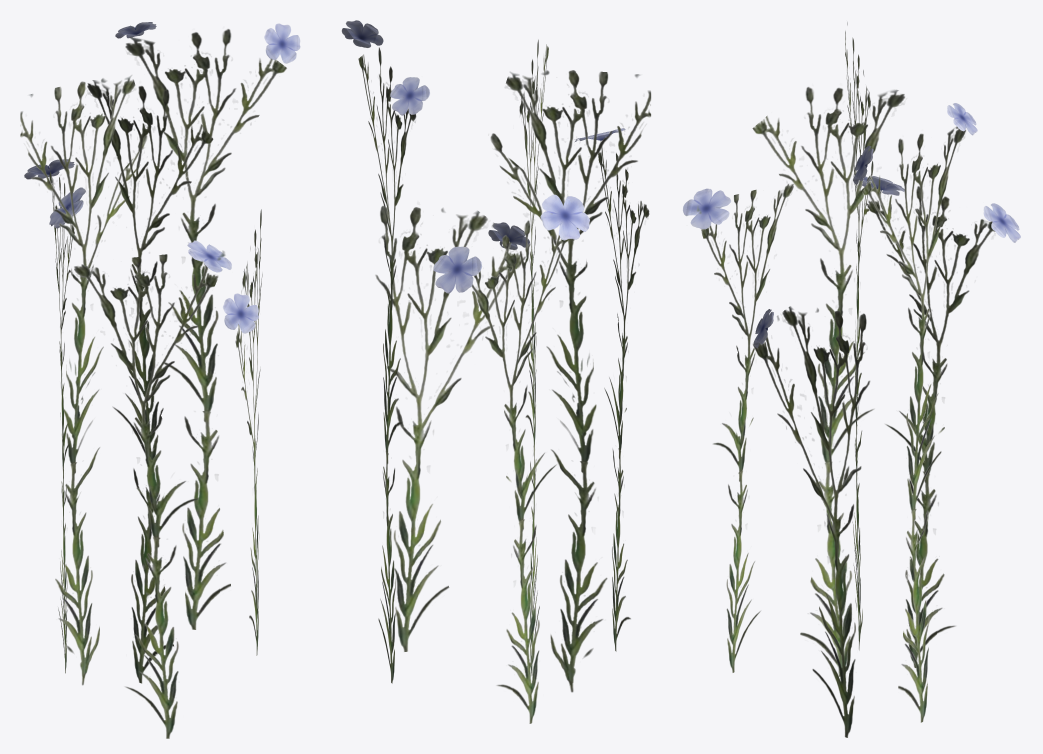
File: linen_flowers_skjellestad.glb
The picture shows the model from 3 angles, left to right: view 1: azimuth 30°, elevation 25°; view 2: azimuth 150°, elevation 25°; view 3: azimuth 270°, elevation 25°; orthographic projection. The views are drawn at different scales.
Parts seen in each view (by area): view 1: Linen/wFlower_Material #35_0, Linen/wFlower_Material #36_0; view 2: Linen/wFlower_Material #35_0, Linen/wFlower_Material #36_0; view 3: Linen/wFlower_Material #35_0, Linen/wFlower_Material #36_0.
Boxes of the visible parts, left/top/right/bottom form: Linen/wFlower_Material #35_0: left=20, top=29, right=286, bottom=738; Linen/wFlower_Material #36_0: left=24, top=22, right=300, bottom=333; Linen/wFlower_Material #35_0: left=358, top=39, right=651, bottom=723; Linen/wFlower_Material #36_0: left=341, top=20, right=625, bottom=293; Linen/wFlower_Material #35_0: left=696, top=22, right=995, bottom=737; Linen/wFlower_Material #36_0: left=683, top=103, right=1020, bottom=347.
Bounding box in the file's own units: 21.59 × 43.28 × 22.
Materials: 2 (2 with a texture image).
